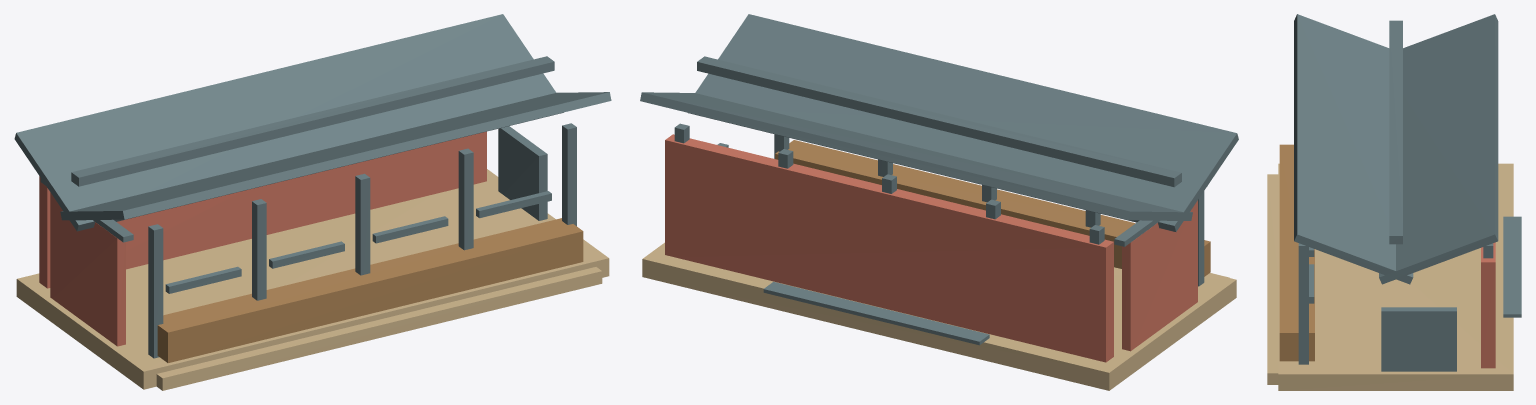
File: Cow-Barn.glb
3 views of the same model, side by side, from view 1: azimuth 30°, elevation 25°; view 2: azimuth 150°, elevation 25°; view 3: azimuth 270°, elevation 25° (orthographic). The views are drawn at different scales.
Visible parts, largest first — view 1: wind-pump-static-cow-barn-galvanized-roof, wind-pump-static-cow-barn-stone-foundation, wind-pump-static-cow-barn-weathered-timber, wind-pump-static-cow-barn-dark-iron, wind-pump-static-cow-barn-feed-trough; view 2: wind-pump-static-cow-barn-weathered-timber, wind-pump-static-cow-barn-galvanized-roof, wind-pump-static-cow-barn-stone-foundation, wind-pump-static-cow-barn-dark-iron, wind-pump-static-cow-barn-feed-trough; view 3: wind-pump-static-cow-barn-galvanized-roof, wind-pump-static-cow-barn-stone-foundation, wind-pump-static-cow-barn-dark-iron, wind-pump-static-cow-barn-feed-trough, wind-pump-static-cow-barn-weathered-timber.
Part boxes in pixels (left/top/right/bottom): wind-pump-static-cow-barn-galvanized-roof: left=14, top=14, right=611, bottom=231; wind-pump-static-cow-barn-stone-foundation: left=16, top=169, right=609, bottom=390; wind-pump-static-cow-barn-weathered-timber: left=39, top=131, right=486, bottom=346; wind-pump-static-cow-barn-dark-iron: left=40, top=56, right=576, bottom=358; wind-pump-static-cow-barn-feed-trough: left=157, top=218, right=583, bottom=362; wind-pump-static-cow-barn-weathered-timber: left=665, top=134, right=1197, bottom=362; wind-pump-static-cow-barn-galvanized-roof: left=640, top=14, right=1238, bottom=231; wind-pump-static-cow-barn-stone-foundation: left=642, top=242, right=1236, bottom=390; wind-pump-static-cow-barn-dark-iron: left=674, top=56, right=1204, bottom=345; wind-pump-static-cow-barn-feed-trough: left=775, top=140, right=1210, bottom=276; wind-pump-static-cow-barn-galvanized-roof: left=1294, top=14, right=1498, bottom=284; wind-pump-static-cow-barn-stone-foundation: left=1267, top=163, right=1513, bottom=390; wind-pump-static-cow-barn-dark-iron: left=1298, top=20, right=1521, bottom=371; wind-pump-static-cow-barn-feed-trough: left=1279, top=144, right=1314, bottom=361; wind-pump-static-cow-barn-weathered-timber: left=1481, top=242, right=1495, bottom=368.
Size of the model in its own units: 5.65 by 1.93 by 2.75.
